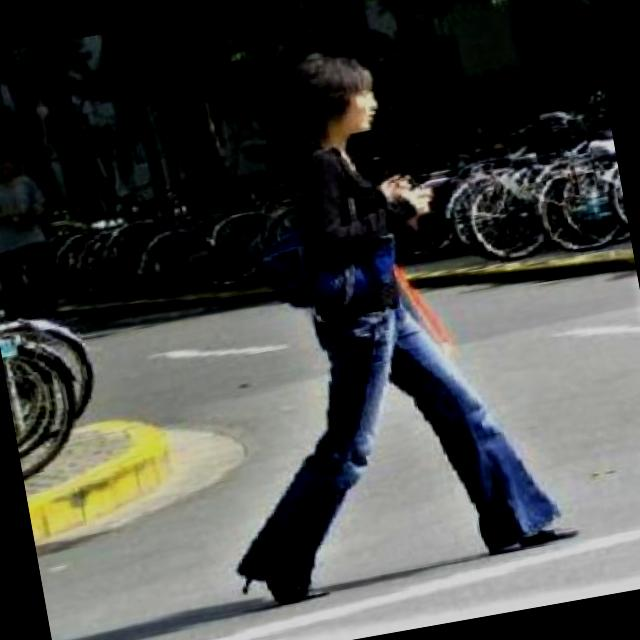Person: (148, 16, 586, 611), (0, 129, 77, 331)
